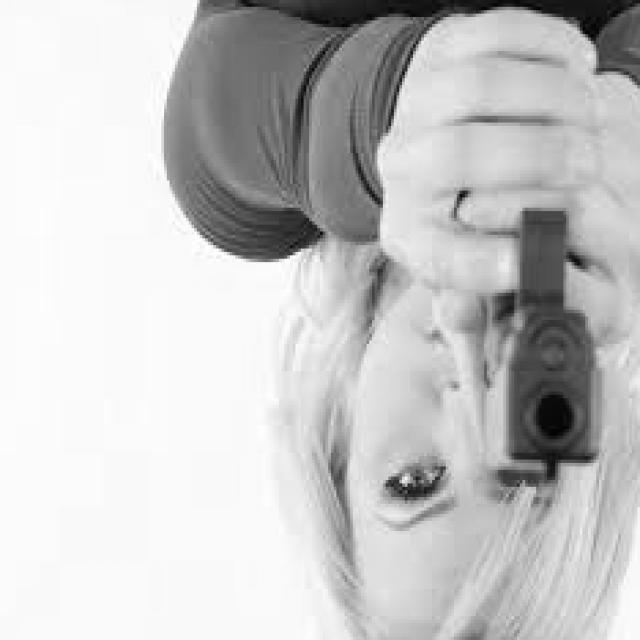gun: (434, 178, 631, 527)
